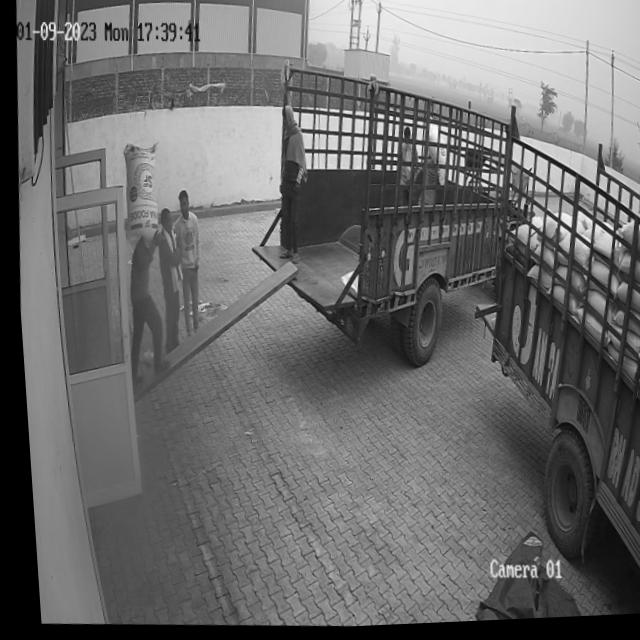sack: (115, 143, 161, 243)
